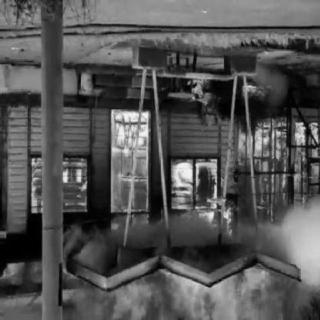Fire: (27, 152, 91, 219)
